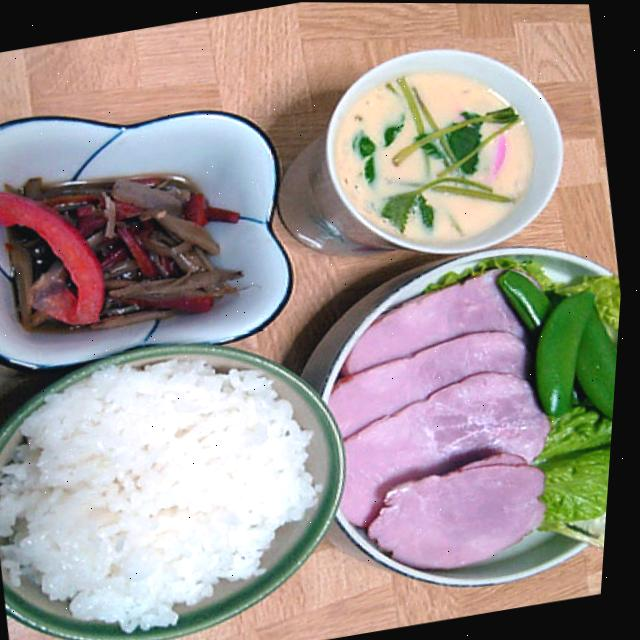米饭主食: (0, 312, 391, 640)
